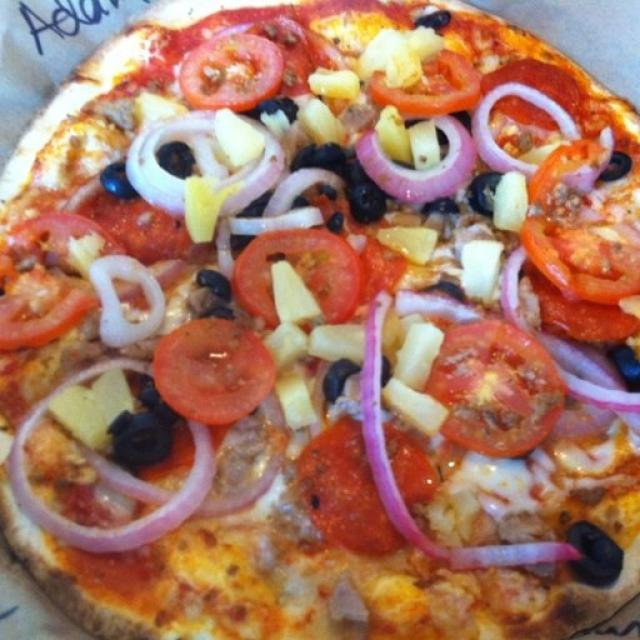Olives: (301, 145, 378, 214), (569, 523, 622, 579), (121, 403, 166, 465), (197, 272, 234, 318), (611, 346, 640, 394), (322, 362, 354, 404), (473, 172, 498, 216), (102, 163, 128, 200), (162, 144, 192, 172), (608, 154, 630, 178), (419, 199, 454, 214), (419, 10, 454, 23)
Onions: (12, 359, 214, 548), (363, 292, 442, 560), (136, 113, 280, 204), (222, 170, 341, 238), (478, 89, 578, 167), (560, 345, 640, 433), (448, 539, 574, 572), (209, 462, 280, 516), (499, 247, 536, 322)
Pepperoni: (306, 430, 433, 555), (88, 200, 193, 266), (250, 20, 341, 85), (534, 285, 637, 337), (491, 61, 579, 116)
Pizza: (0, 0, 640, 640)
Tomato: (442, 328, 565, 459), (538, 142, 640, 290), (0, 214, 103, 348), (160, 324, 274, 423), (241, 229, 356, 317), (180, 31, 276, 107), (378, 57, 477, 106)
